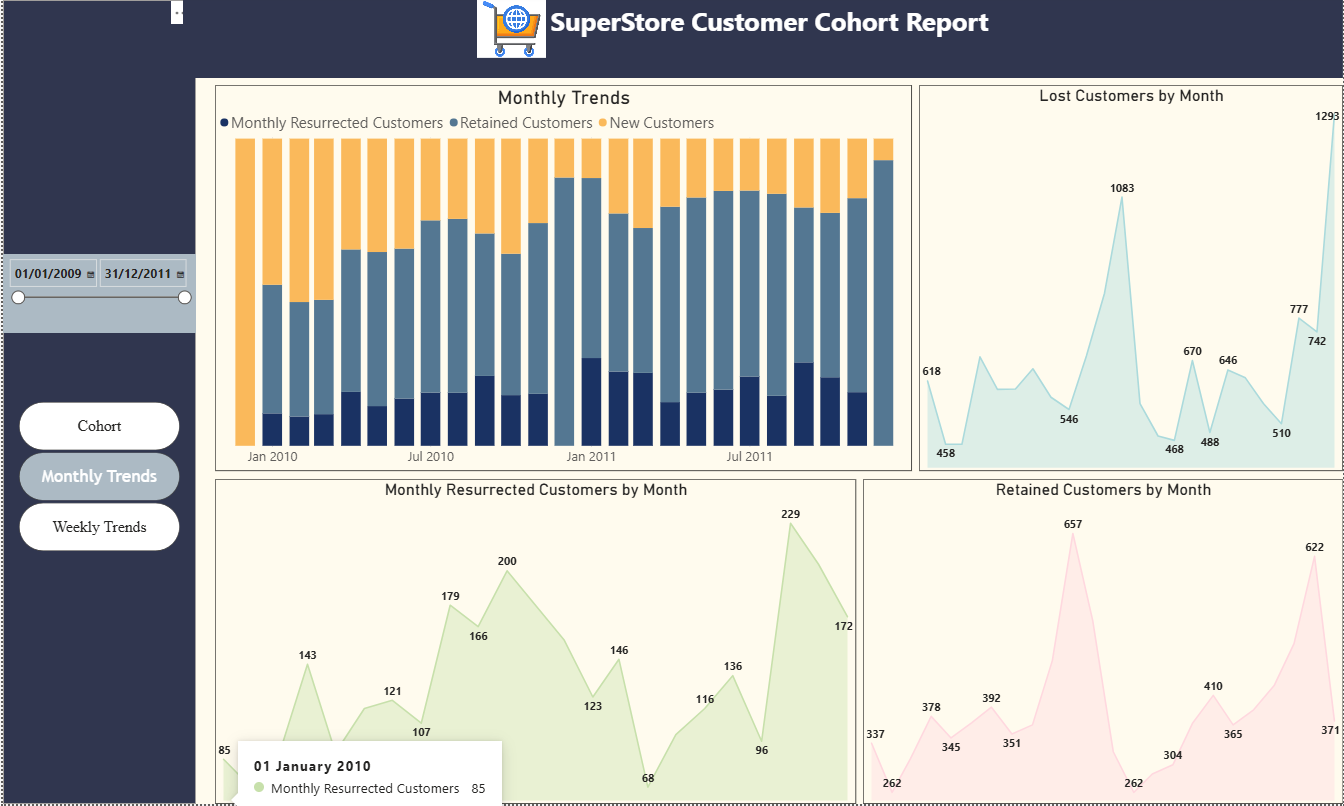

Layout of this report page (visuals, bound fields, positions):
{"tool":"powerbi","page":{"name":"Monthly Trends","canvas":[2500,1500],"ordinal":1},"visuals":[{"type":"shape","box":[0,0,360.1,1500],"z":0},{"type":"shape","box":[335.8,0,2164.2,145.5],"z":1000},{"type":"textbox","box":[360.1,0,2139.9,123.1],"z":2000},{"type":"hundredPercentStackedColumnChart","title":"Monthly Trends","fields":{"Category":["Dim Date.Start of Month"],"Y":["_Measures.Resurrected Customers","_Measures.Retained Customers","_Measures.New Customers"]},"box":[395.5,158.6,1300.4,720.1],"z":3000},{"type":"areaChart","title":"Lost Customers by  Month","fields":{"Category":["Dim Date.Start of Month"],"Y":["_Measures.Lost Customers"]},"box":[1709,158.6,791,720.1],"z":4000},{"type":"areaChart","title":"Monthly Resurrected Customers by Month","fields":{"Category":["Dim Date.Start of Month"],"Y":["_Measures.Resurrected Customers"]},"box":[395.5,893.7,1195.9,606.3],"z":5000},{"type":"areaChart","title":"Retained Customers by  Month","fields":{"Category":["Dim Date.Start of Month"],"Y":["_Measures.Retained Customers"]},"box":[1604.5,893.7,895.5,606.3],"z":6000},{"type":"slicer","fields":{"Values":["Dim Date.Date"]},"box":[0,473.9,360.1,145.5],"z":7000},{"type":"pageNavigator","box":[29.9,750,300.4,279.9],"z":8000},{"type":"actionButton","box":[884.3,0,128.7,108.2],"z":9000}]}

Visuals, with their boxes on the page's 2500x1500 design canvas (x1, y1, x2, y2). These are canvas units, not pixel positions in the 1344x806 screenshot, which may show the page scaled, cropped or inside an application window:
shape: [x1=0, y1=0, x2=360, y2=1500]
shape: [x1=336, y1=0, x2=2500, y2=146]
textbox: [x1=360, y1=0, x2=2500, y2=123]
"Monthly Trends" hundredPercentStackedColumnChart: [x1=396, y1=159, x2=1696, y2=879]
"Lost Customers by  Month" areaChart: [x1=1709, y1=159, x2=2500, y2=879]
"Monthly Resurrected Customers by Month" areaChart: [x1=396, y1=894, x2=1591, y2=1500]
"Retained Customers by  Month" areaChart: [x1=1604, y1=894, x2=2500, y2=1500]
slicer - Dim Date.Date: [x1=0, y1=474, x2=360, y2=619]
pageNavigator: [x1=30, y1=750, x2=330, y2=1030]
actionButton: [x1=884, y1=0, x2=1013, y2=108]
